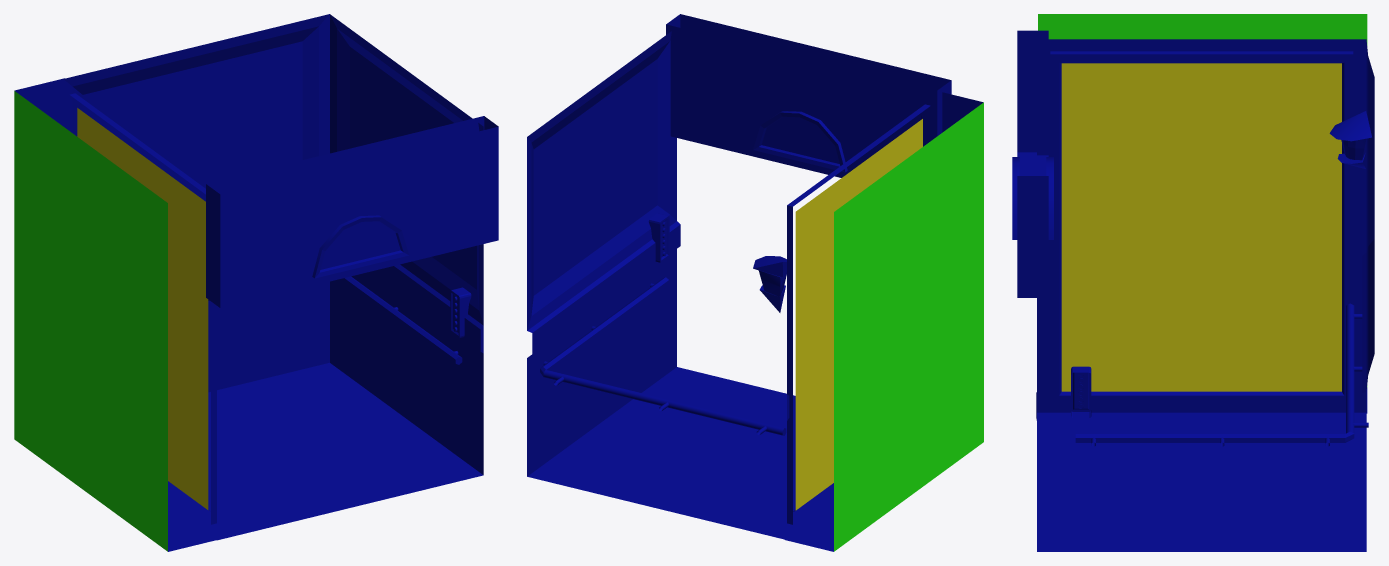
The model's file is MOD_Elevator.FBX.
3 renders of one model, left to right at view 1: azimuth 30°, elevation 25°; view 2: azimuth 150°, elevation 25°; view 3: azimuth 270°, elevation 25°, orthographic. The views are drawn at different scales.
Visible parts, largest first — view 1: MOD_Elevator; view 2: MOD_Elevator; view 3: MOD_Elevator.
Boxes of the visible parts, x1,y1,x2,y2 form: MOD_Elevator: [14, 14, 498, 551]; MOD_Elevator: [527, 14, 983, 551]; MOD_Elevator: [1012, 14, 1374, 551].
Bounding box in the file's own units: 4.83 × 5.08 × 4.4.
